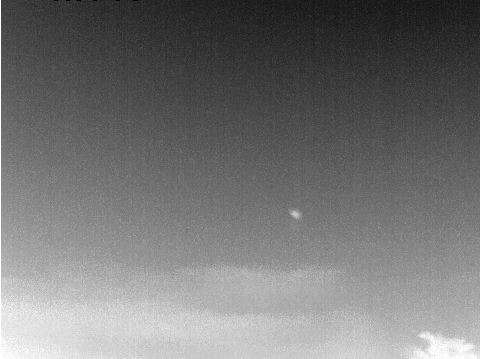dim target: (289, 208, 301, 220)
